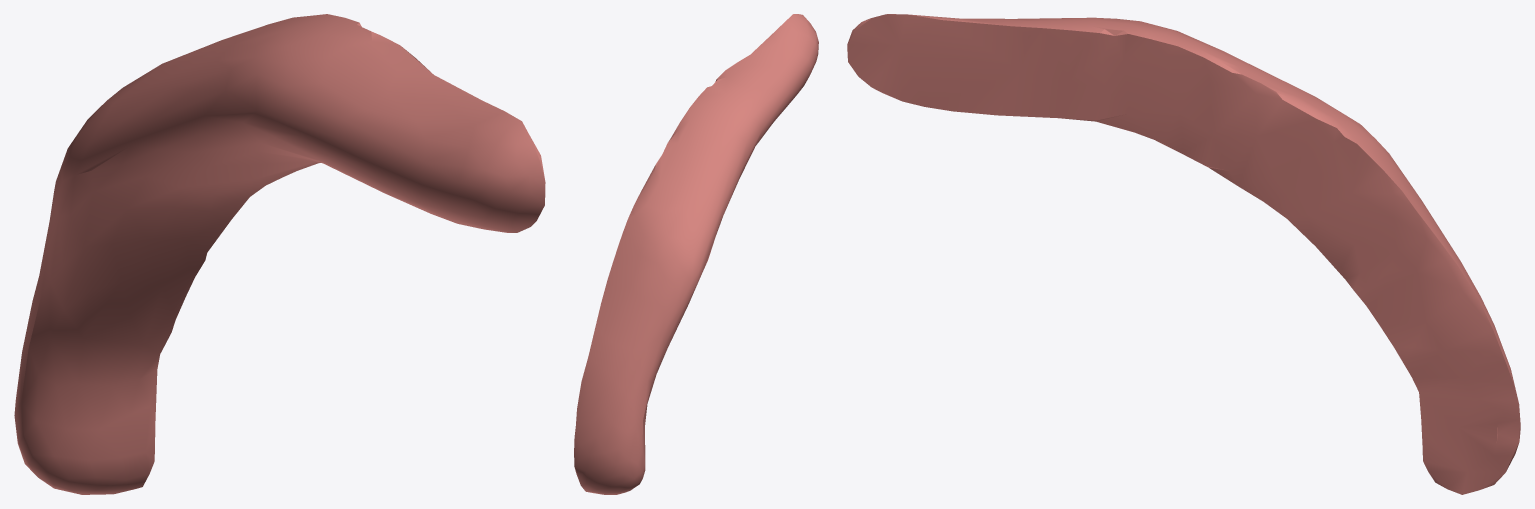
Rendered from fma46734_mm1253m.glb.
3 views of the same model, side by side, from view 1: azimuth 30°, elevation 25°; view 2: azimuth 150°, elevation 25°; view 3: azimuth 270°, elevation 25° (orthographic). The views are drawn at different scales.
Parts seen in each view (by area): view 1: FMA46734_MM1253M; view 2: FMA46734_MM1253M; view 3: FMA46734_MM1253M.
Boxes of the visible parts, x1,y1,x2,y2 form: FMA46734_MM1253M: (14,14,545,494); FMA46734_MM1253M: (574,14,818,494); FMA46734_MM1253M: (847,14,1520,494).
Size of the model in its own units: 0.00481 by 0.0213 by 0.0271.
